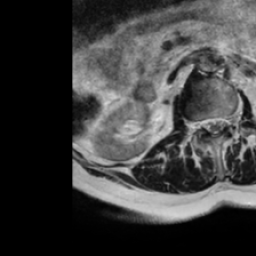CCS_normal: (210, 109, 219, 144)
LFS_normal: (226, 105, 234, 135)
LLS_normal: (219, 108, 227, 140)
RFS_normal: (193, 110, 201, 137)
RLS_normal: (201, 108, 210, 140)
